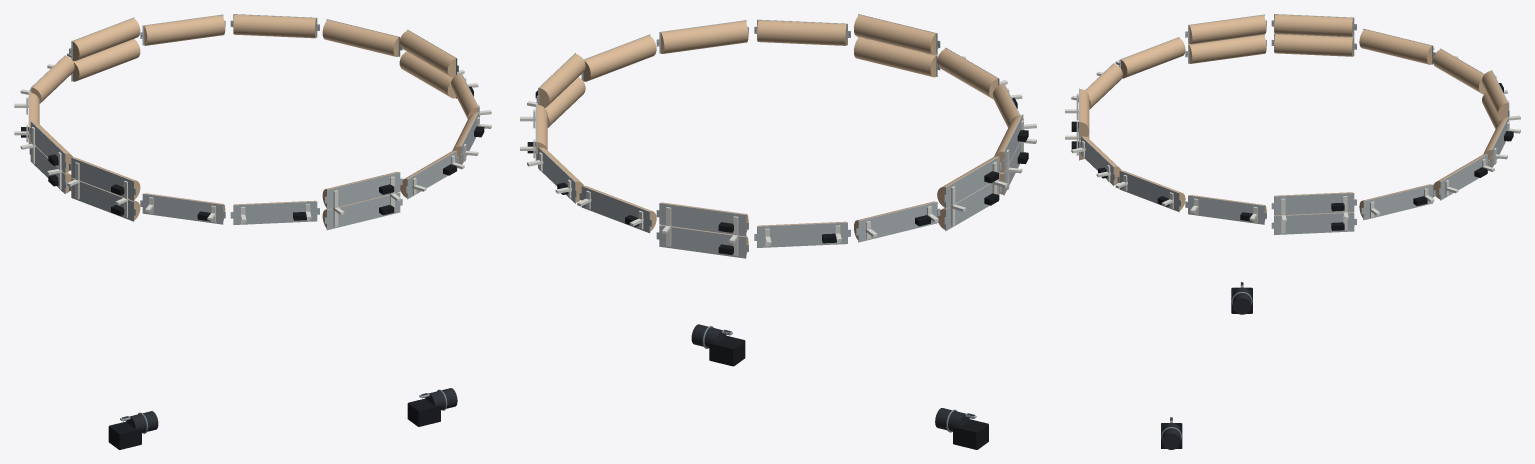
Rendered from orbiter-sensors.glb.
The picture shows the model from 3 angles, left to right: view 1: azimuth 30°, elevation 25°; view 2: azimuth 150°, elevation 25°; view 3: azimuth 270°, elevation 25°; orthographic projection. The views are drawn at different scales.
Visible parts, largest first — view 1: METEOROID_DETECTOR_13_SKIN_LO1_beryllium-copper_detector_ski, METEOROID_DETECTOR_12_SKIN_LO1_beryllium-copper_detector_ski, METEOROID_DETECTOR_14_SKIN_LO1_beryllium-copper_detector_ski, METEOROID_DETECTOR_2_LO1_machined_aluminium_structure, METEOROID_DETECTOR_3_LO1_machined_aluminium_structure, METEOROID_DETECTOR_11_SKIN_LO1_beryllium-copper_detector_ski, METEOROID_DETECTOR_10_SKIN_LO1_beryllium-copper_detector_ski, METEOROID_DETECTOR_1_LO1_machined_aluminium_structure, METEOROID_DETECTOR_0_LO1_machined_aluminium_structure, METEOROID_DETECTOR_16_SKIN_LO1_beryllium-copper_detector_ski, METEOROID_DETECTOR_5_LO1_machined_aluminium_structure, METEOROID_DETECTOR_15_SKIN_LO1_beryllium-copper_detector_ski (+8 smaller); view 2: METEOROID_DETECTOR_19_SKIN_LO1_beryllium-copper_detector_ski, METEOROID_DETECTOR_18_SKIN_LO1_beryllium-copper_detector_ski, METEOROID_DETECTOR_1_SKIN_LO1_beryllium-copper_detector_skin, METEOROID_DETECTOR_0_SKIN_LO1_beryllium-copper_detector_skin, METEOROID_DETECTOR_9_LO1_machined_aluminium_structure, METEOROID_DETECTOR_11_LO1_machined_aluminium_structure, METEOROID_DETECTOR_10_LO1_machined_aluminium_structure, METEOROID_DETECTOR_17_SKIN_LO1_beryllium-copper_detector_ski, METEOROID_DETECTOR_8_LO1_machined_aluminium_structure, METEOROID_DETECTOR_2_SKIN_LO1_beryllium-copper_detector_skin, METEOROID_DETECTOR_12_LO1_machined_aluminium_structure, METEOROID_DETECTOR_16_SKIN_LO1_beryllium-copper_detector_ski (+11 smaller); view 3: METEOROID_DETECTOR_6_SKIN_LO1_beryllium-copper_detector_skin, METEOROID_DETECTOR_7_SKIN_LO1_beryllium-copper_detector_skin, METEOROID_DETECTOR_5_SKIN_LO1_beryllium-copper_detector_skin, METEOROID_DETECTOR_4_SKIN_LO1_beryllium-copper_detector_skin, METEOROID_DETECTOR_8_SKIN_LO1_beryllium-copper_detector_skin, METEOROID_DETECTOR_16_LO1_machined_aluminium_structure, METEOROID_DETECTOR_15_LO1_machined_aluminium_structure, METEOROID_DETECTOR_17_LO1_machined_aluminium_structure, METEOROID_DETECTOR_3_SKIN_LO1_beryllium-copper_detector_skin, METEOROID_DETECTOR_14_LO1_machined_aluminium_structure, METEOROID_DETECTOR_9_SKIN_LO1_beryllium-copper_detector_skin, METEOROID_DETECTOR_18_LO1_machined_aluminium_structure (+5 smaller).
Boxes of the visible parts, x1,y1,x2,y2 form: METEOROID_DETECTOR_13_SKIN_LO1_beryllium-copper_detector_ski: (233, 14, 315, 38); METEOROID_DETECTOR_12_SKIN_LO1_beryllium-copper_detector_ski: (144, 15, 225, 45); METEOROID_DETECTOR_14_SKIN_LO1_beryllium-copper_detector_ski: (322, 20, 398, 56); METEOROID_DETECTOR_2_LO1_machined_aluminium_structure: (230, 201, 319, 224); METEOROID_DETECTOR_3_LO1_machined_aluminium_structure: (140, 193, 225, 224); METEOROID_DETECTOR_11_SKIN_LO1_beryllium-copper_detector_ski: (72, 18, 140, 60); METEOROID_DETECTOR_10_SKIN_LO1_beryllium-copper_detector_ski: (72, 39, 140, 81); METEOROID_DETECTOR_1_LO1_machined_aluminium_structure: (324, 172, 402, 209); METEOROID_DETECTOR_0_LO1_machined_aluminium_structure: (324, 192, 402, 230); METEOROID_DETECTOR_16_SKIN_LO1_beryllium-copper_detector_ski: (399, 30, 455, 77); METEOROID_DETECTOR_5_LO1_machined_aluminium_structure: (69, 157, 136, 200); METEOROID_DETECTOR_15_SKIN_LO1_beryllium-copper_detector_ski: (399, 51, 455, 98); METEOROID_DETECTOR_19_SKIN_LO1_beryllium-copper_detector_ski: (757, 20, 846, 45); METEOROID_DETECTOR_18_SKIN_LO1_beryllium-copper_detector_ski: (660, 21, 748, 53); METEOROID_DETECTOR_1_SKIN_LO1_beryllium-copper_detector_skin: (854, 14, 936, 54); METEOROID_DETECTOR_0_SKIN_LO1_beryllium-copper_detector_skin: (854, 37, 936, 77); METEOROID_DETECTOR_9_LO1_machined_aluminium_structure: (754, 222, 850, 247); METEOROID_DETECTOR_11_LO1_machined_aluminium_structure: (656, 203, 748, 236); METEOROID_DETECTOR_10_LO1_machined_aluminium_structure: (656, 225, 748, 258); METEOROID_DETECTOR_17_SKIN_LO1_beryllium-copper_detector_ski: (583, 35, 656, 81); METEOROID_DETECTOR_8_LO1_machined_aluminium_structure: (856, 201, 940, 242); METEOROID_DETECTOR_2_SKIN_LO1_beryllium-copper_detector_skin: (937, 48, 998, 99); METEOROID_DETECTOR_12_LO1_machined_aluminium_structure: (579, 186, 651, 233); METEOROID_DETECTOR_16_SKIN_LO1_beryllium-copper_detector_ski: (539, 54, 585, 107); METEOROID_DETECTOR_6_SKIN_LO1_beryllium-copper_detector_skin: (1274, 34, 1352, 56); METEOROID_DETECTOR_7_SKIN_LO1_beryllium-copper_detector_skin: (1274, 14, 1352, 37); METEOROID_DETECTOR_5_SKIN_LO1_beryllium-copper_detector_skin: (1189, 15, 1266, 44); METEOROID_DETECTOR_4_SKIN_LO1_beryllium-copper_detector_skin: (1189, 34, 1266, 63); METEOROID_DETECTOR_8_SKIN_LO1_beryllium-copper_detector_skin: (1359, 29, 1431, 64); METEOROID_DETECTOR_16_LO1_machined_aluminium_structure: (1271, 193, 1356, 215); METEOROID_DETECTOR_15_LO1_machined_aluminium_structure: (1271, 212, 1356, 234); METEOROID_DETECTOR_17_LO1_machined_aluminium_structure: (1185, 195, 1266, 224); METEOROID_DETECTOR_3_SKIN_LO1_beryllium-copper_detector_skin: (1121, 37, 1185, 78); METEOROID_DETECTOR_14_LO1_machined_aluminium_structure: (1361, 184, 1435, 220); METEOROID_DETECTOR_9_SKIN_LO1_beryllium-copper_detector_skin: (1433, 49, 1486, 94); METEOROID_DETECTOR_18_LO1_machined_aluminium_structure: (1117, 170, 1181, 212).
Size of the model in its own units: 1.1 by 0.7637 by 1.1.
